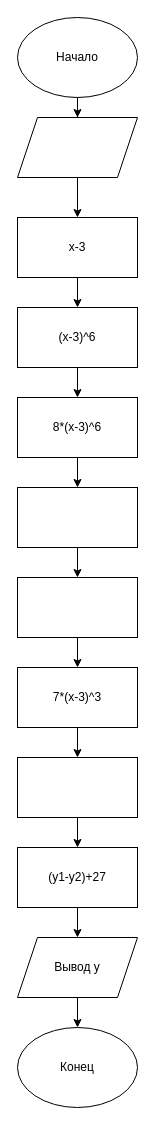
Image size: 155x1125. Some labels were removed from this diagram. Each missing label, with the box of its shape:
(x-3)^3: (16, 576, 138, 638)
Ввод x: (16, 116, 138, 178)
Сохранение результата в y1: (16, 486, 138, 548)
Сохранение результата в y2: (16, 756, 138, 818)
